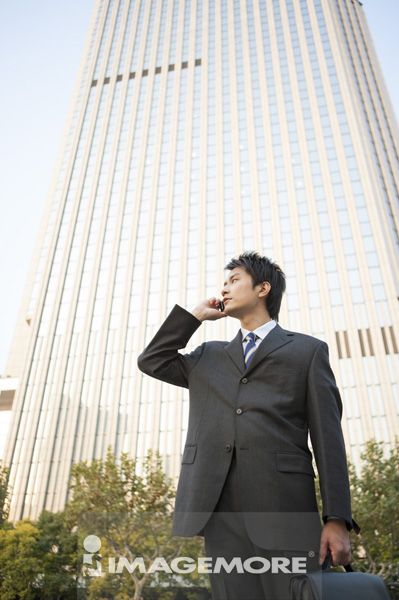talk: (199, 273, 249, 322)
